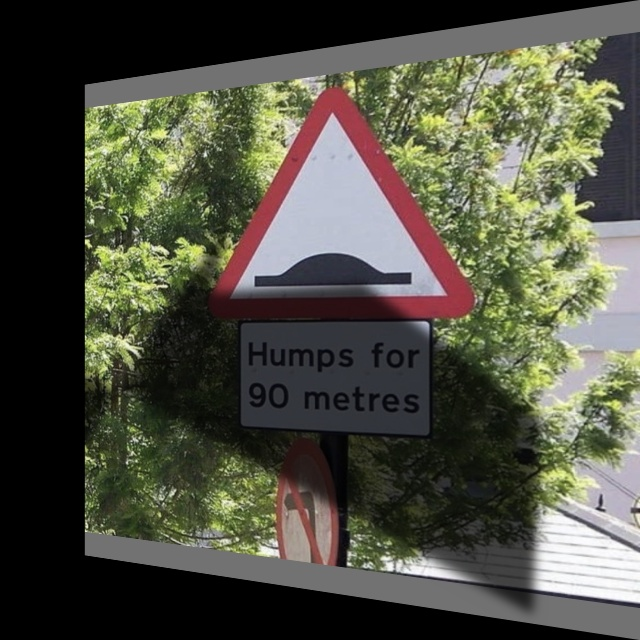Hump_or_Rough_Road: (217, 75, 456, 315)
